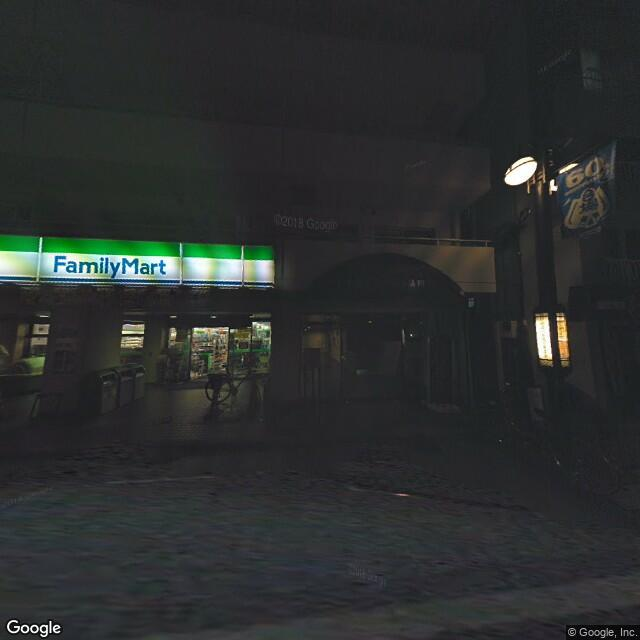family_mart: (1, 230, 280, 292), (45, 246, 170, 281)
